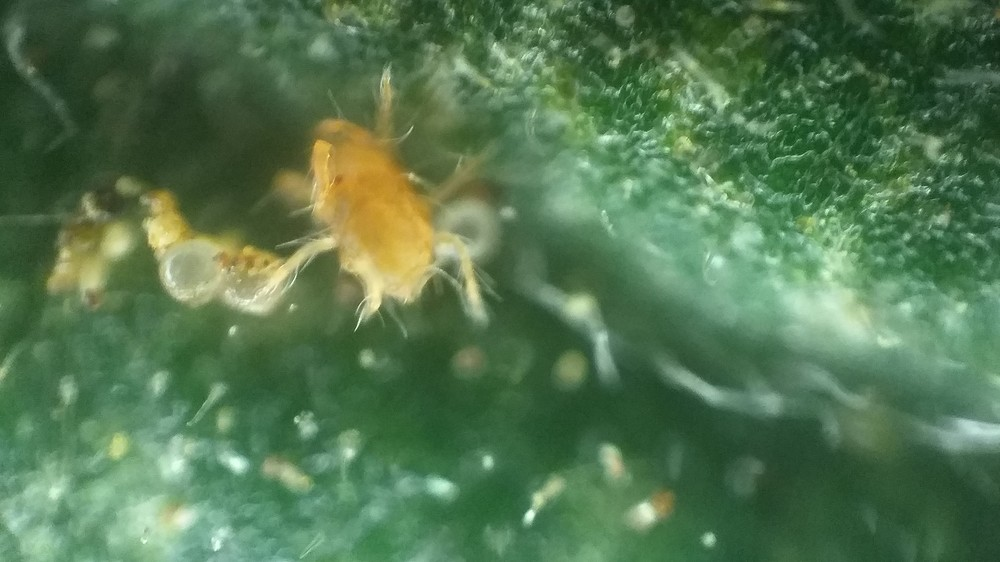Aracnido Rojo: (246, 69, 527, 362)
